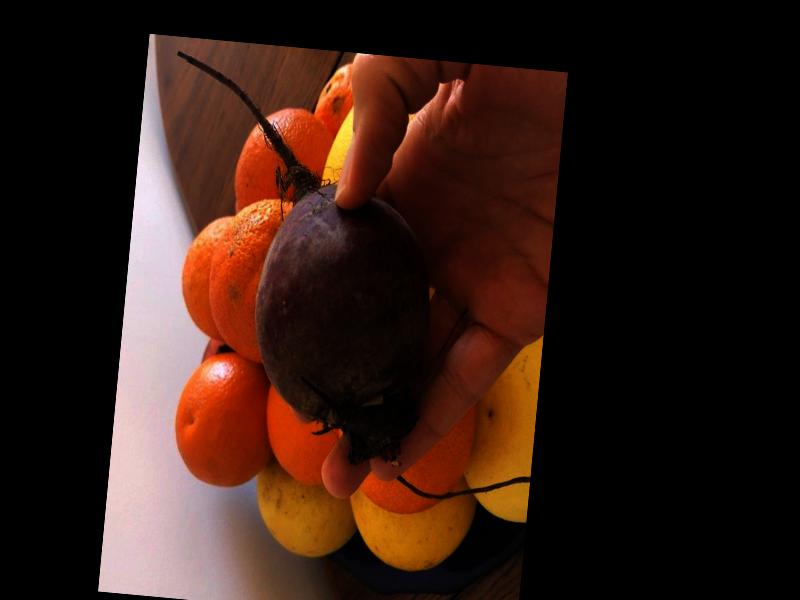Beet: (141, 51, 451, 463)
